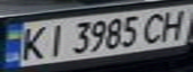3: (69, 19, 90, 55)
5: (121, 12, 145, 47)
8: (106, 16, 127, 51)
9: (87, 18, 109, 53)
C: (136, 10, 172, 44)
H: (154, 7, 193, 42)
I: (42, 21, 69, 57)
K: (15, 24, 51, 62)
